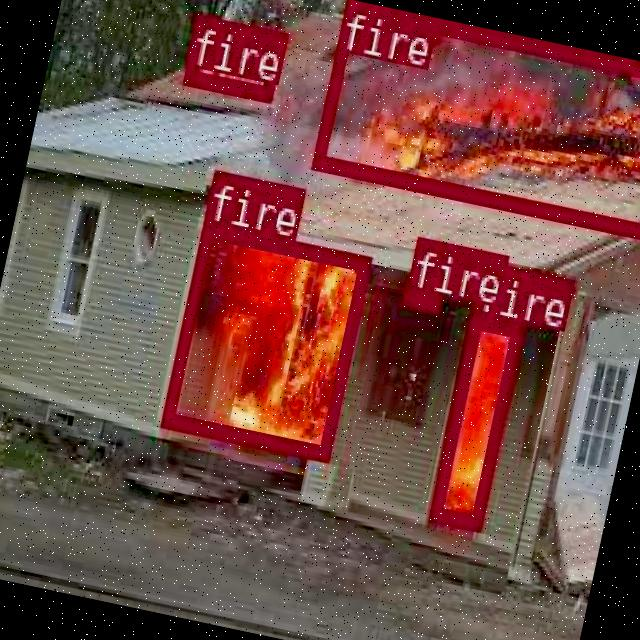fire: (309, 0, 640, 237), (160, 220, 368, 457), (428, 310, 522, 528), (181, 12, 282, 97), (402, 284, 441, 310)
